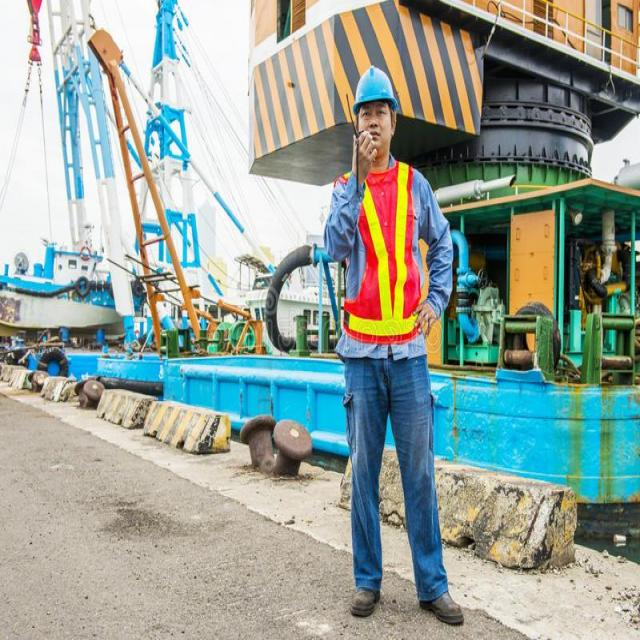Reflective-Jacket: (336, 156, 425, 342)
Safety-Helmet: (348, 60, 400, 115)
